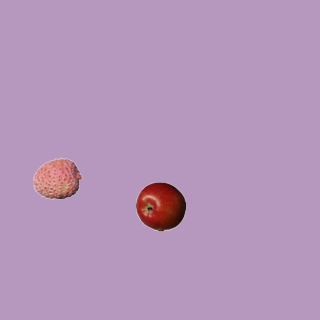Apple Braeburn: (135, 181, 185, 231)
Lychee: (32, 153, 82, 203)
